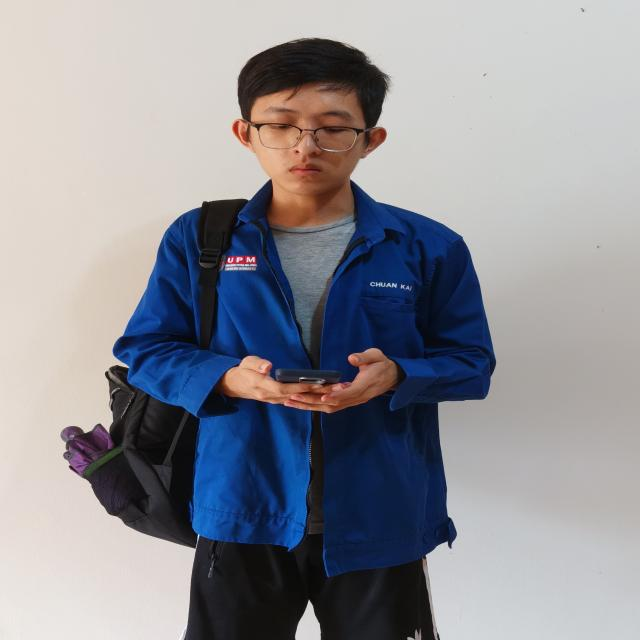person_with_labcoat: (64, 38, 495, 640)
